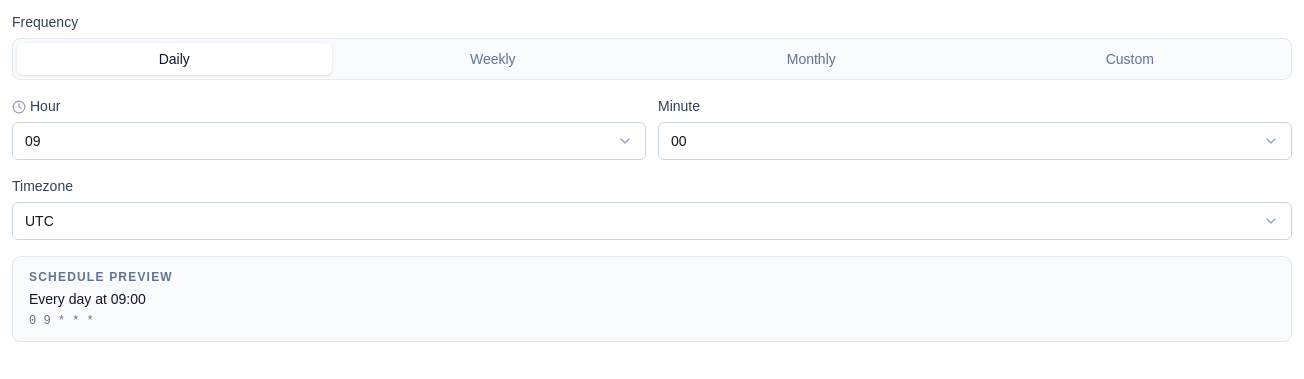
Test case: SchedulePicker — Custom cron input › typing an invalid cron → shows validation error (RED: no validation yet)
Click the radio button labelled "Custom" at (1130, 59), box [972, 43, 1287, 75]
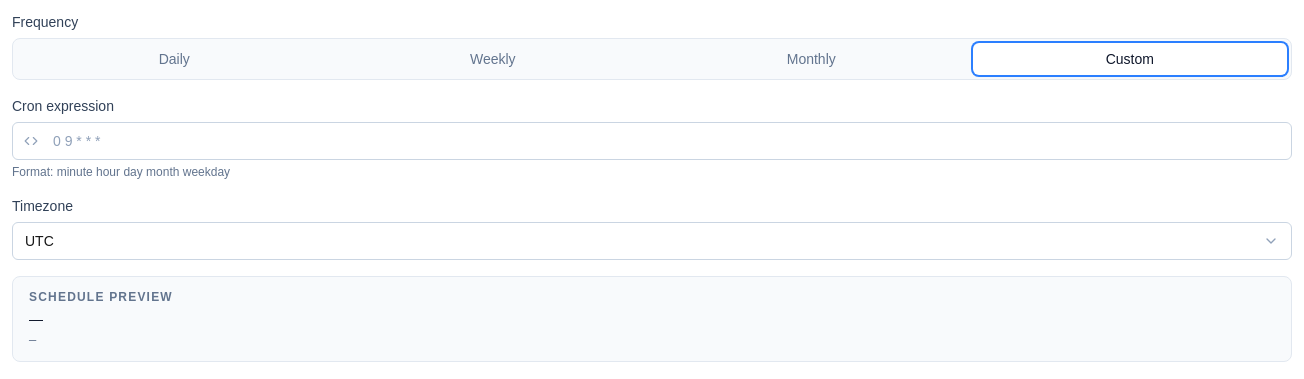
Type "not-a-valid-cron" into the field named "custom cron expression" at (652, 141), box [12, 122, 1292, 160]
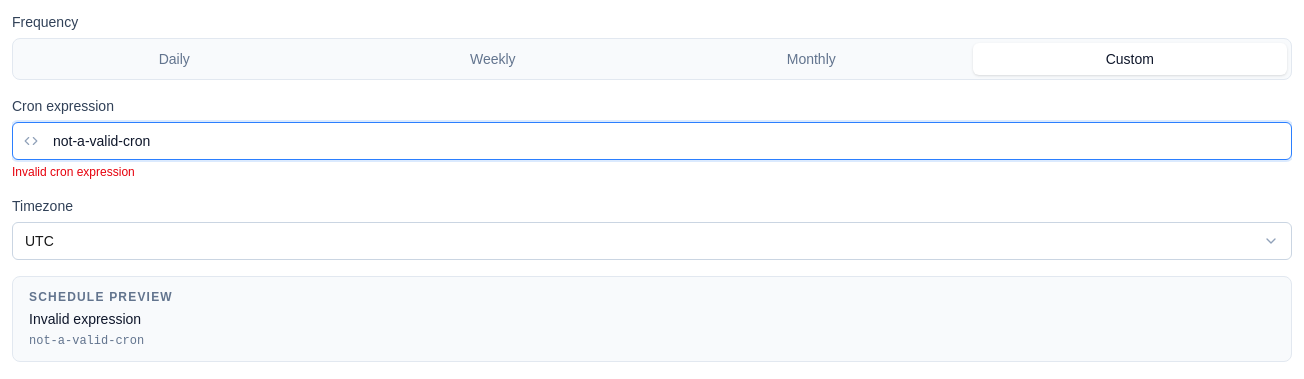
Expected: the message reads "Invalid cron expression", [12, 165, 135, 179]
